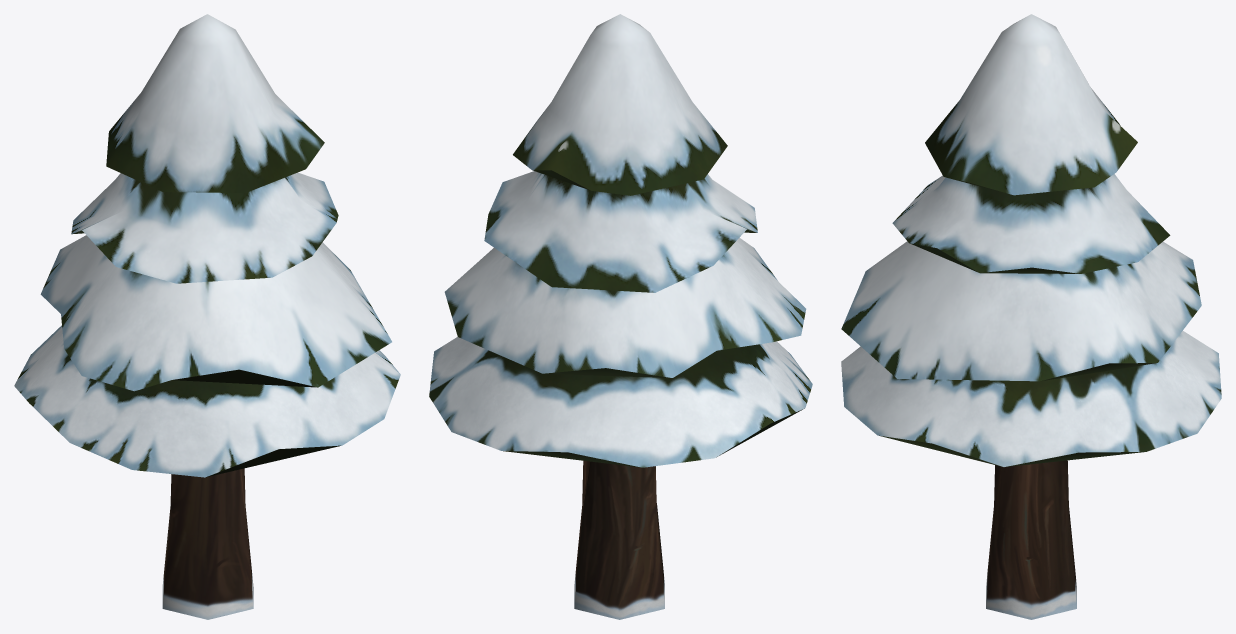
Rendered from sldmd_songshu_02.fbx.
3 views of the same model, side by side, from view 1: azimuth 30°, elevation 25°; view 2: azimuth 150°, elevation 25°; view 3: azimuth 270°, elevation 25° (orthographic).
Visible parts, largest first — view 1: sldmd_songshu_02; view 2: sldmd_songshu_02; view 3: sldmd_songshu_02.
Part boxes in pixels (bbox=[...]): sldmd_songshu_02: bbox=[14, 14, 400, 619]; sldmd_songshu_02: bbox=[429, 14, 812, 619]; sldmd_songshu_02: bbox=[841, 14, 1221, 619].
Bounding box in the file's own units: 165 × 280 × 166.
